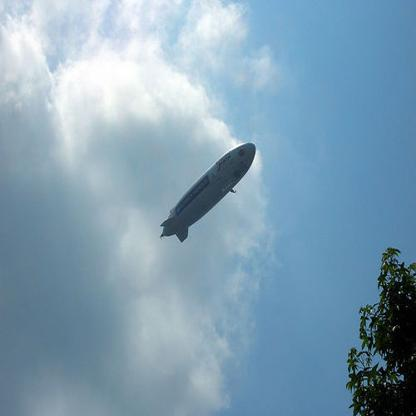Airship: (160, 140, 258, 248)
